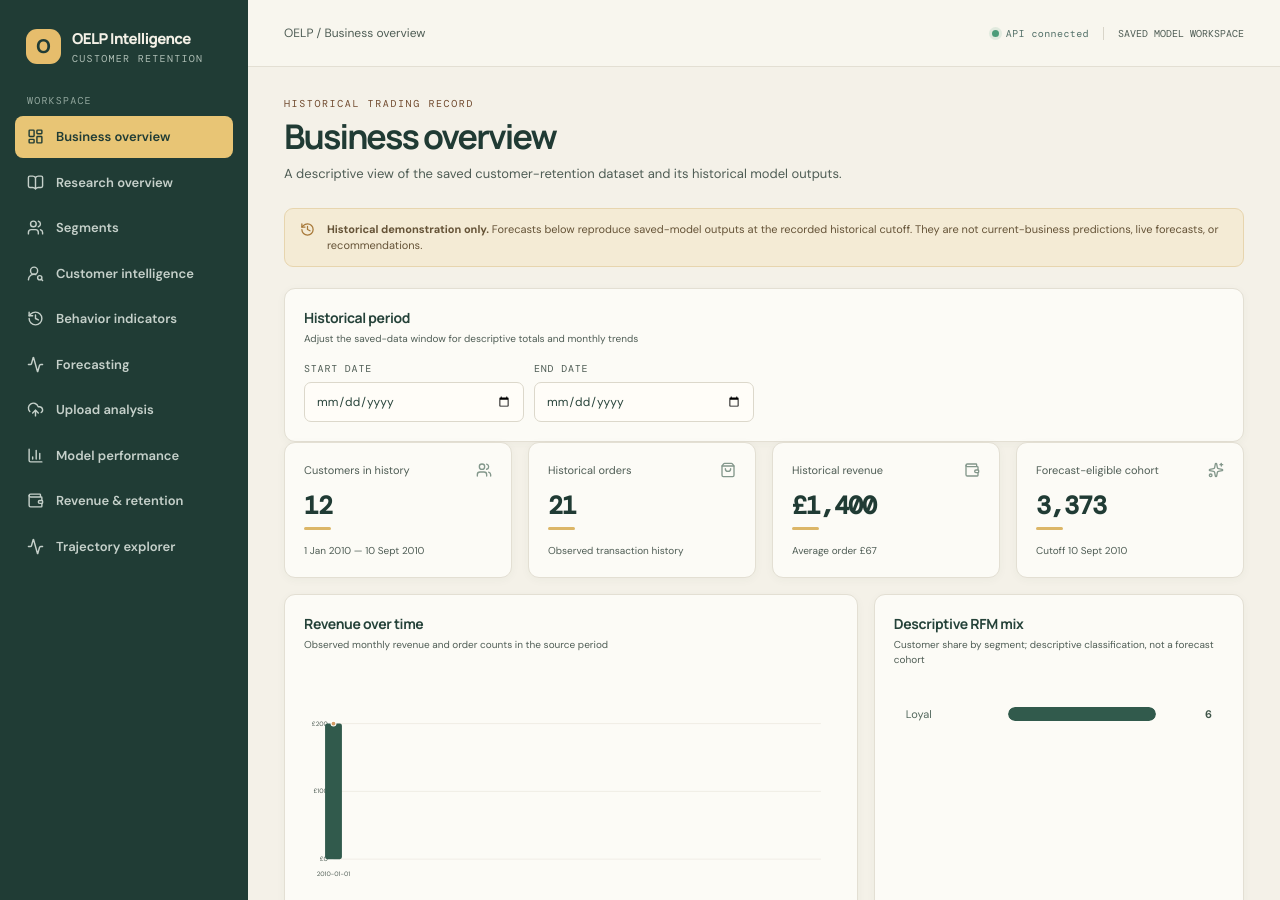
Test: OELP customer intelligence pages › offers reachable navigation and queries revenue data with API filters and complete query keys
Expected: the heading "Business overview" is shown, [284, 113, 556, 159]
Step 1. Click the link with test id "link-revenue-exposure" → (105, 501), box [27, 492, 184, 509]
(page scrolled)
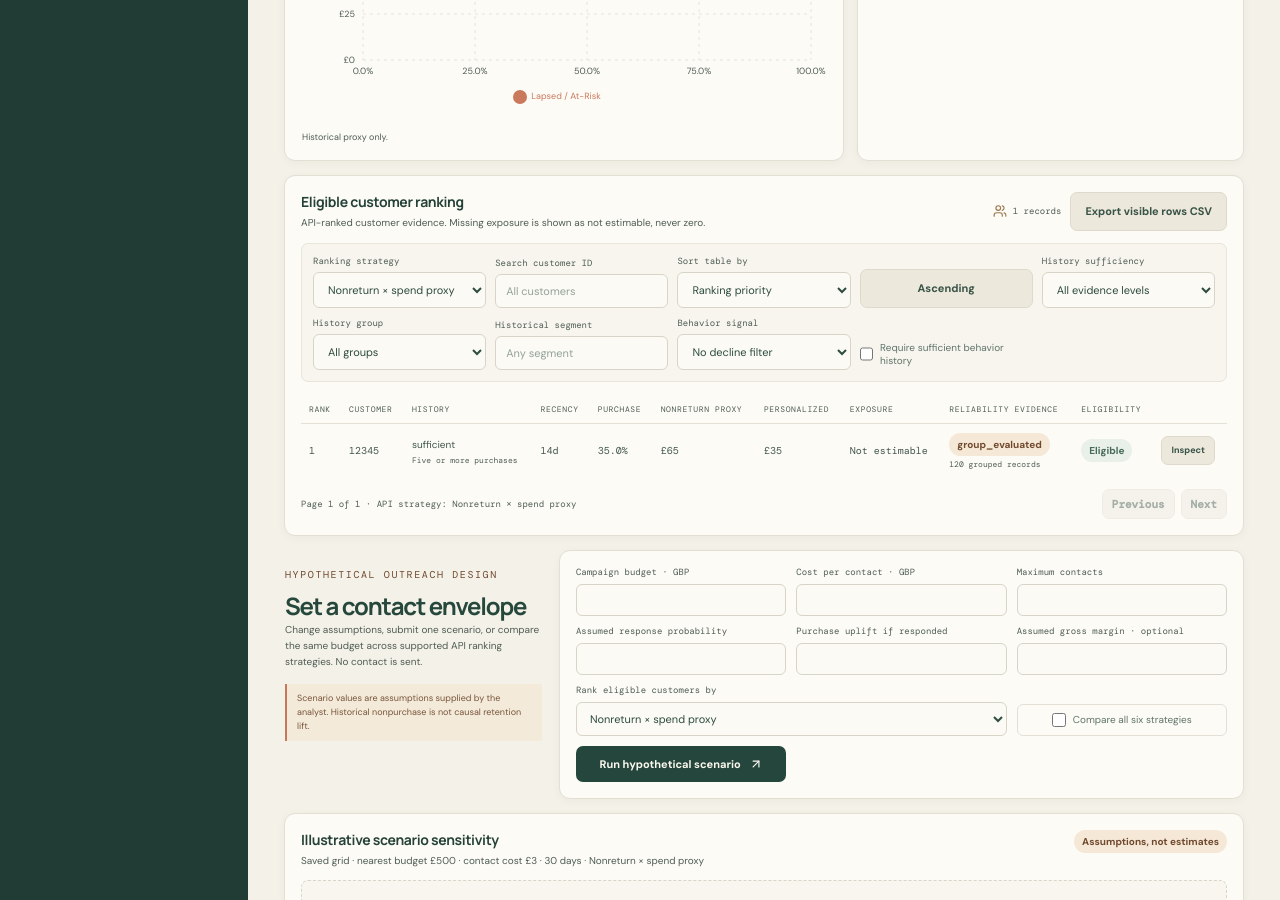
Step 2. Click the button with test id "button-exposure-detail-12345" → (1188, 451), box [1162, 436, 1215, 465]
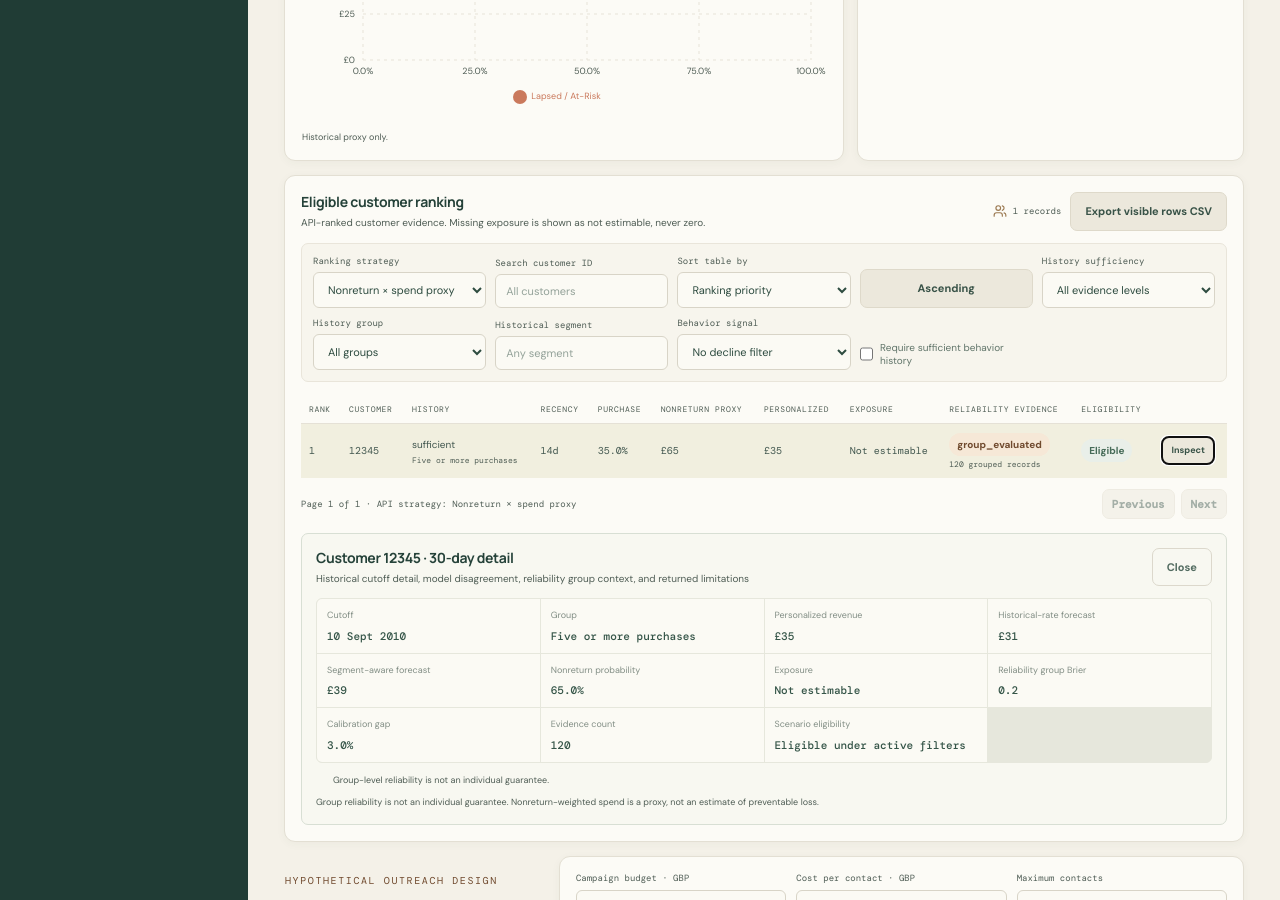
Expected: the element with test id "panel-exposure-detail" shows "Eligible under active filters", [774, 738, 966, 752]
